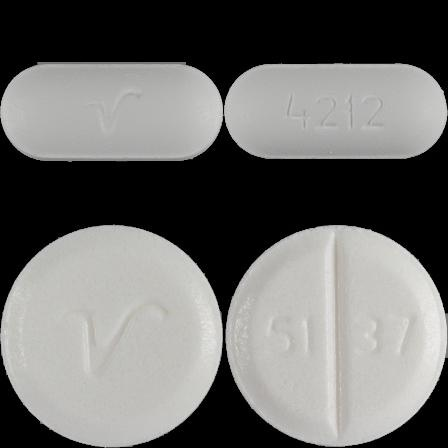66336-063: (0, 0, 224, 224)
